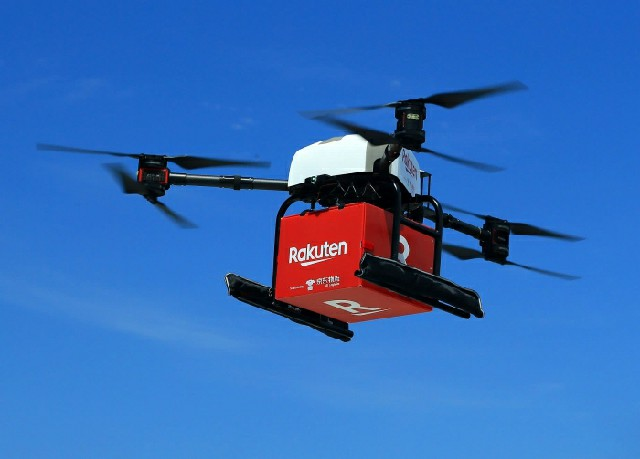maybay_khongnguoilai: (92, 78, 533, 330)
